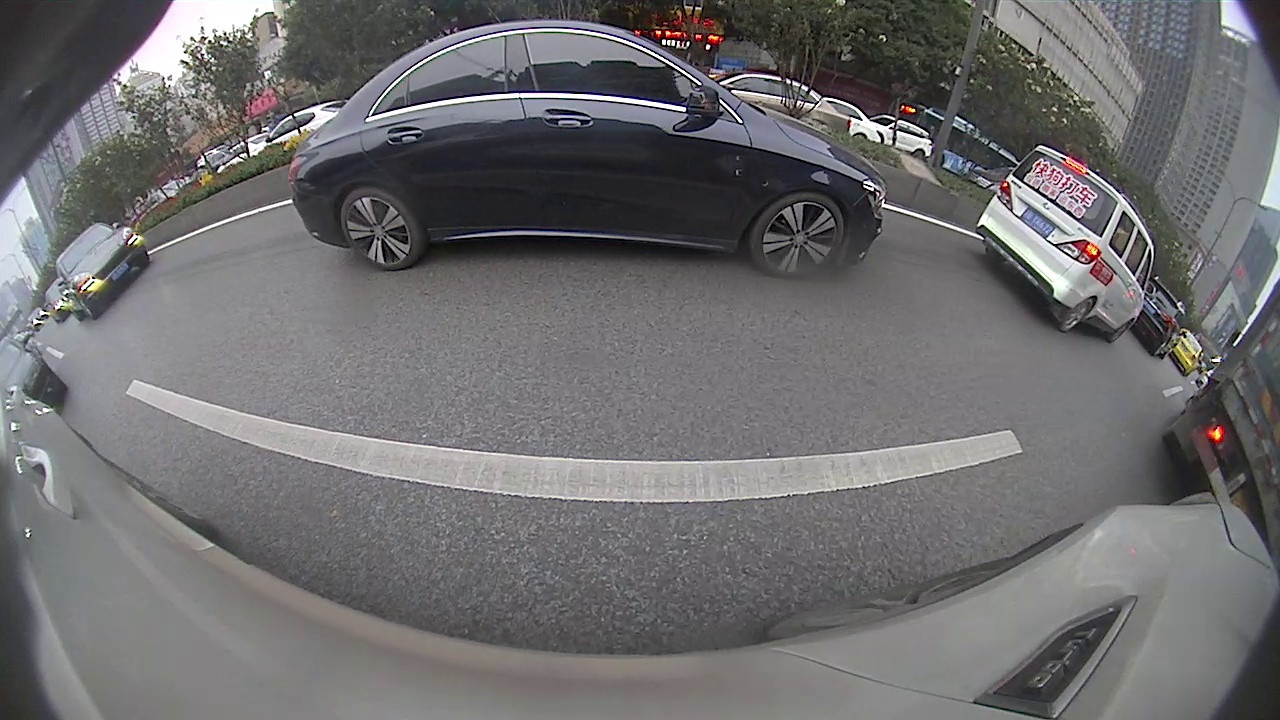car: (286, 20, 887, 281), (974, 141, 1155, 343), (55, 222, 147, 317), (1123, 279, 1181, 360), (1170, 321, 1205, 376)
front: (747, 193, 844, 277)
rear: (338, 191, 420, 274), (1060, 297, 1097, 331)
